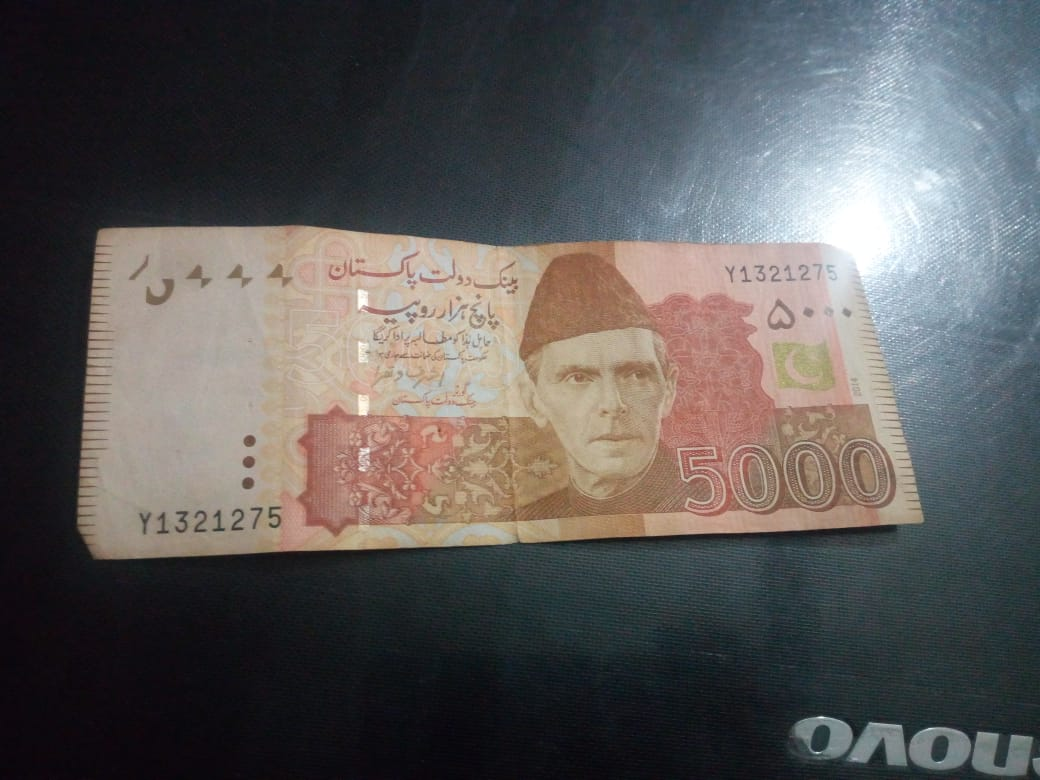5000 rupee: (74, 216, 932, 574)
